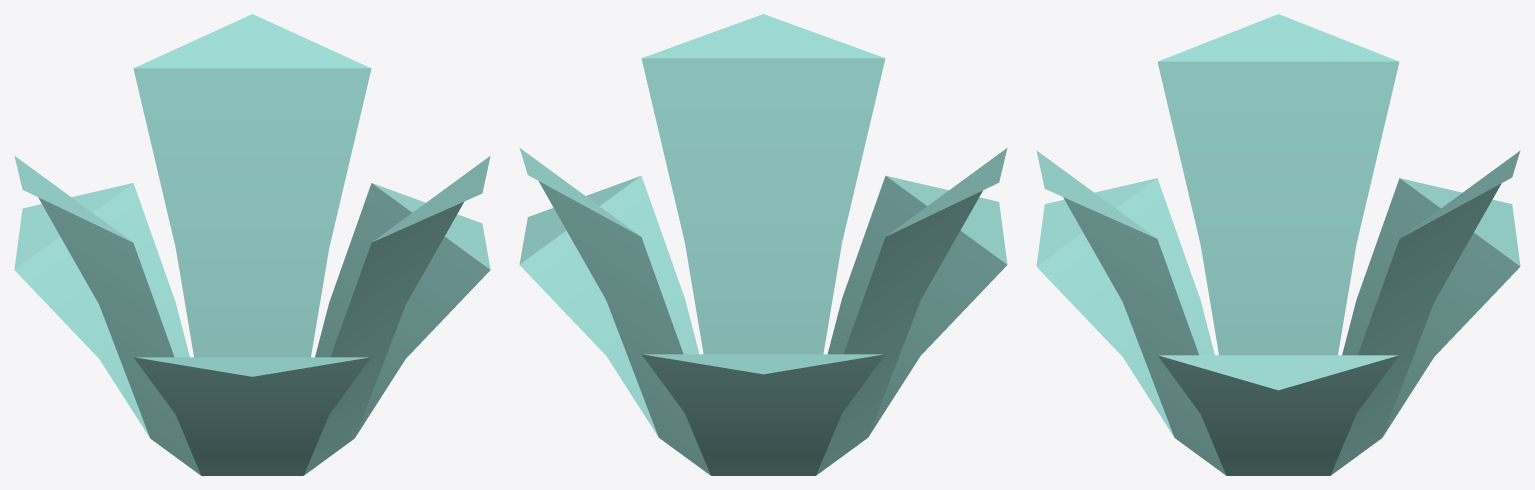
The model's file is plant_bushLarge.gltf.
The picture shows the model from 3 angles, left to right: view 1: azimuth 30°, elevation 25°; view 2: azimuth 150°, elevation 25°; view 3: azimuth 270°, elevation 25°; orthographic projection. The views are drawn at different scales.
Visible parts, largest first — view 1: plant_bushLarge; view 2: plant_bushLarge; view 3: plant_bushLarge.
Part boxes in pixels (box(x1,y1,x2,y2)): plant_bushLarge: box(14, 14, 490, 475); plant_bushLarge: box(519, 14, 1007, 475); plant_bushLarge: box(1036, 14, 1520, 475).
Size of the model in its own units: 0.3743 by 0.2429 by 0.3357.
